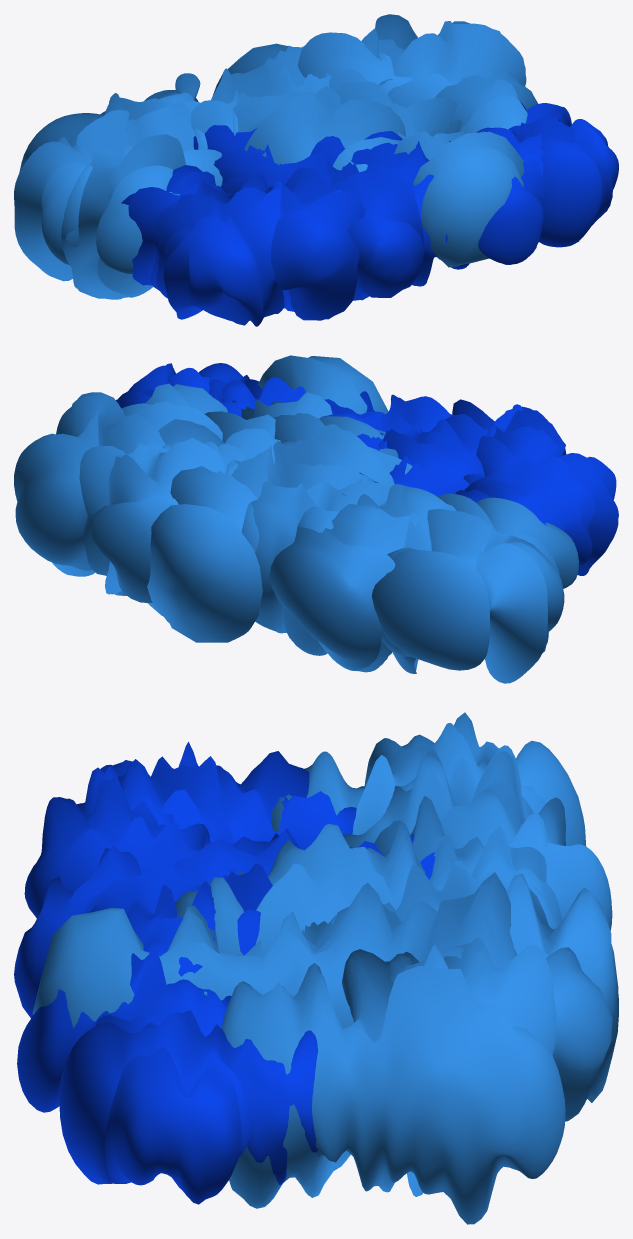
File: tankgoo.glb
The picture shows the model from 3 angles, top to bottom: view 1: azimuth 30°, elevation 25°; view 2: azimuth 150°, elevation 25°; view 3: azimuth 270°, elevation 25°; orthographic projection. The views are drawn at different scales.
Visible parts, largest first — view 1: Mball.018, Mball.001; view 2: Mball.018, Mball.001; view 3: Mball.018, Mball.001.
Part boxes in pixels (x1=…): Mball.018: x1=14, y1=14, x2=538, y2=299; Mball.001: x1=121, y1=102, x2=618, y2=326; Mball.018: x1=14, y1=355, x2=579, y2=683; Mball.001: x1=116, y1=363, x2=618, y2=575; Mball.018: x1=32, y1=712, x2=618, y2=1224; Mball.001: x1=14, y1=742, x2=435, y2=1204.
Size of the model in its own units: 9.41 by 3.15 by 6.42.
